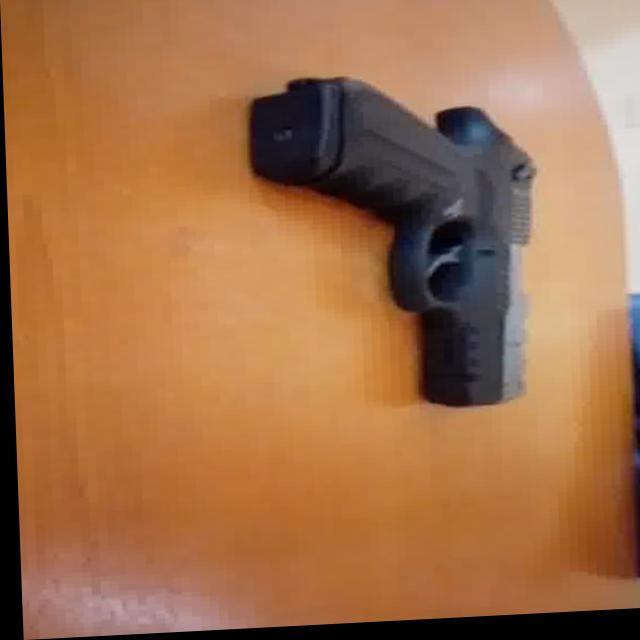weapon: (245, 70, 542, 420)
